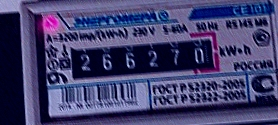0: (191, 45, 204, 63)
2: (76, 52, 90, 71), (145, 48, 157, 67)
6: (99, 51, 112, 70), (122, 50, 135, 69)
7: (168, 46, 180, 65)
screen: (58, 27, 224, 88)
